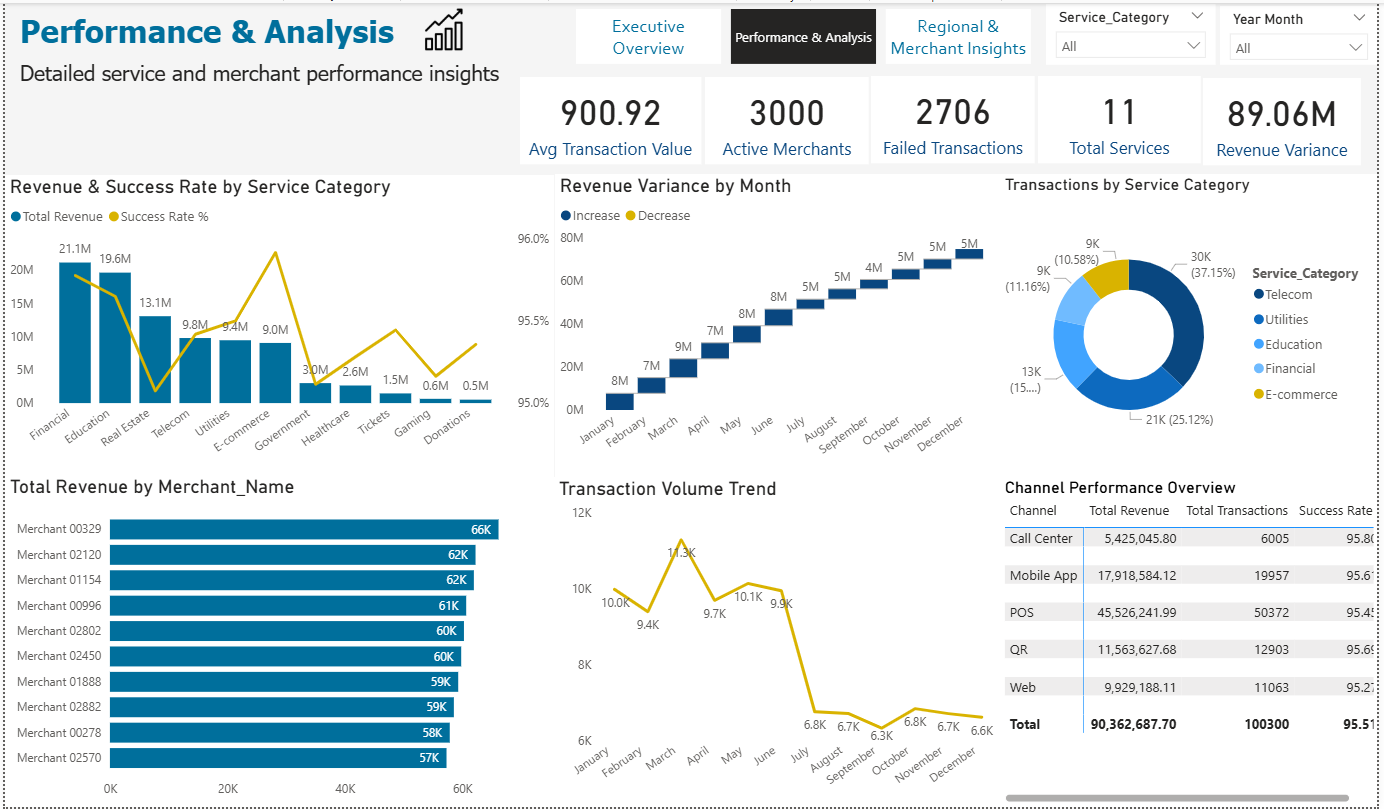

The dashboard page shown, as its layout file describes it:
{"tool":"powerbi","page":{"name":" Performance & Analysis","canvas":[1400,820],"ordinal":1},"visuals":[{"type":"textbox","box":[10.2,4.1,417.1,57.1],"z":0},{"type":"textbox","box":[10.2,54.1,500.8,47.9],"z":1000},{"type":"card","fields":{"Values":["Transactions.Avg Transaction Value"]},"box":[525.1,75.3,184.7,88.7],"z":2000},{"type":"card","fields":{"Values":["Transactions.Active Merchants"]},"box":[713.9,75.3,167.1,88.7],"z":3000},{"type":"card","fields":{"Values":["Transactions.Failed Transactions"]},"box":[883.1,74.3,167.1,88.7],"z":4000},{"type":"card","fields":{"Values":["Transactions.Total Services"]},"box":[1053.4,74.3,166.1,88.7],"z":5000},{"type":"card","fields":{"Values":["Transactions.Revenue Variance"]},"box":[1221.5,76.3,160.9,88.7],"z":6000},{"type":"lineClusteredColumnComboChart","title":"Revenue & Success Rate by Service Category","fields":{"Category":["Services.Service_Category"],"Y":["Transactions.Total Revenue"],"Y2":["Transactions.Success Rate %"]},"box":[0,175.4,559.9,306],"z":7000},{"type":"clusteredBarChart","fields":{"Category":["Merchants.Merchant_Name"],"Y":["Transactions.Total Revenue"]},"box":[0,481.4,559.9,338.6],"z":8000},{"type":"lineChart","title":"Transaction Volume Trend","fields":{"Category":["DateTable.Date.Variation.Date Hierarchy.Month"],"Y":["Transactions.Total Transactions"]},"box":[559.9,483.4,454.9,336.6],"z":9000},{"type":"pageNavigator","box":[581.9,6.2,466.3,56.7],"z":10000},{"type":"waterfallChart","fields":{"Category":["DateTable.Date.Variation.Date Hierarchy.Month"],"Y":["Transactions.Revenue Variance"]},"box":[560.9,174.4,454.9,309],"z":11000},{"type":"pivotTable","title":"Channel Performance Overview","fields":{"Rows":["Transactions.Channel"],"Values":["Transactions.Total Revenue","Transactions.Total Transactions","Transactions.Success Rate %"]},"box":[1014.5,483.4,385.5,336.6],"z":12000},{"type":"donutChart","title":"Transactions by Service Category","fields":{"Category":["Transactions.Service_Category"],"Y":["Transactions.Total Transactions"]},"box":[1014.8,174.4,385.5,309],"z":13000},{"type":"slicer","fields":{"Values":["DateTable.Year Month"]},"box":[1238.8,3.1,161.1,60.2],"z":14000},{"type":"slicer","fields":{"Values":["Transactions.Service_Category"]},"box":[1061.7,1,173.4,62.2],"z":15000},{"type":"image","box":[384.5,0,125.4,54.1],"z":16000}]}

Visuals, with their boxes in screenshot pixels (x1, y1, x2, y2), scaled from the page's 1400x820 canvas onto the 1384x809 screenshot:
textbox: (10,4,422,60)
textbox: (10,53,505,101)
card - Transactions.Avg Transaction Value: (519,74,702,162)
card - Transactions.Active Merchants: (706,74,871,162)
card - Transactions.Failed Transactions: (873,73,1038,161)
card - Transactions.Total Services: (1041,73,1206,161)
card - Transactions.Revenue Variance: (1208,75,1367,163)
"Revenue & Success Rate by Service Category" lineClusteredColumnComboChart: (0,173,554,475)
clusteredBarChart - Merchants.Merchant_Name x Transactions.Total Revenue: (0,475,554,808)
"Transaction Volume Trend" lineChart: (554,477,1003,808)
pageNavigator: (575,6,1036,62)
waterfallChart - DateTable.Date.Variation.Date Hierarchy.Month x Transactions.Revenue Variance: (554,172,1004,477)
"Channel Performance Overview" pivotTable: (1003,477,1383,808)
"Transactions by Service Category" donutChart: (1003,172,1383,477)
slicer - DateTable.Year Month: (1225,3,1383,62)
slicer - Transactions.Service_Category: (1050,1,1221,62)
image: (380,0,504,53)
